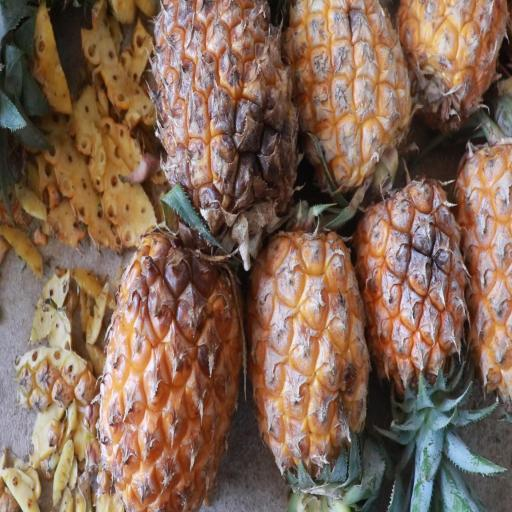Pineapple - v8 v1: (96, 221, 245, 512), (149, 2, 298, 247), (248, 215, 377, 480), (286, 4, 416, 209), (354, 173, 478, 385), (398, 0, 505, 148)
